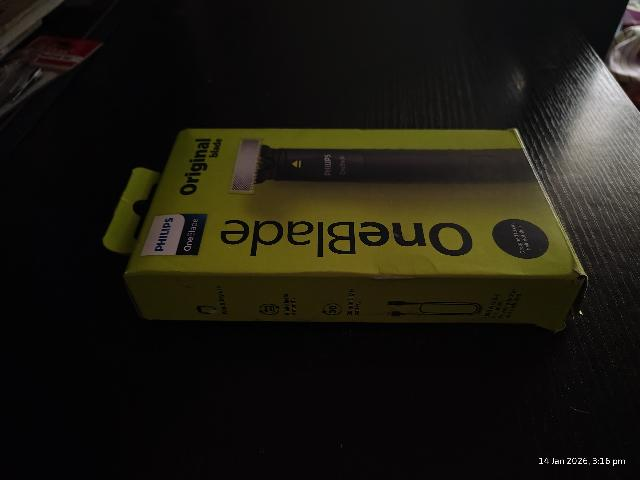phillips oneblade: (117, 125, 581, 334)
